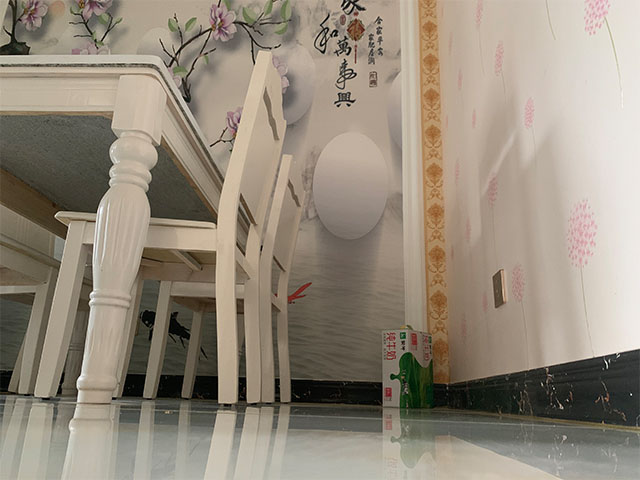stool: (32, 49, 288, 407), (142, 153, 307, 409), (1, 201, 142, 399)
table: (1, 53, 255, 406)
